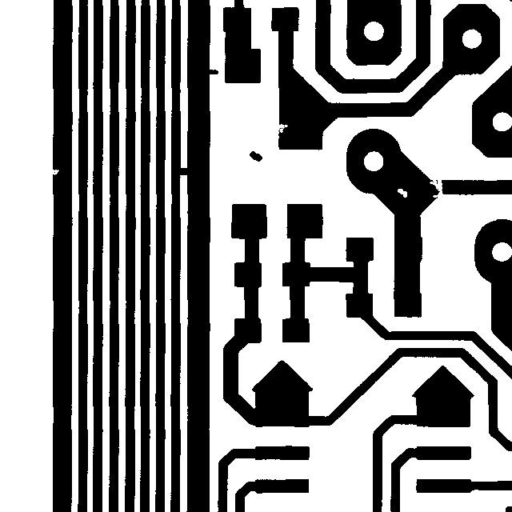copper: (242, 143, 270, 169)
mousebite: (422, 164, 453, 212), (267, 116, 295, 140), (42, 162, 66, 182)
pin-hole: (390, 181, 414, 205)
short: (169, 160, 200, 182)
spur: (198, 62, 226, 82)
